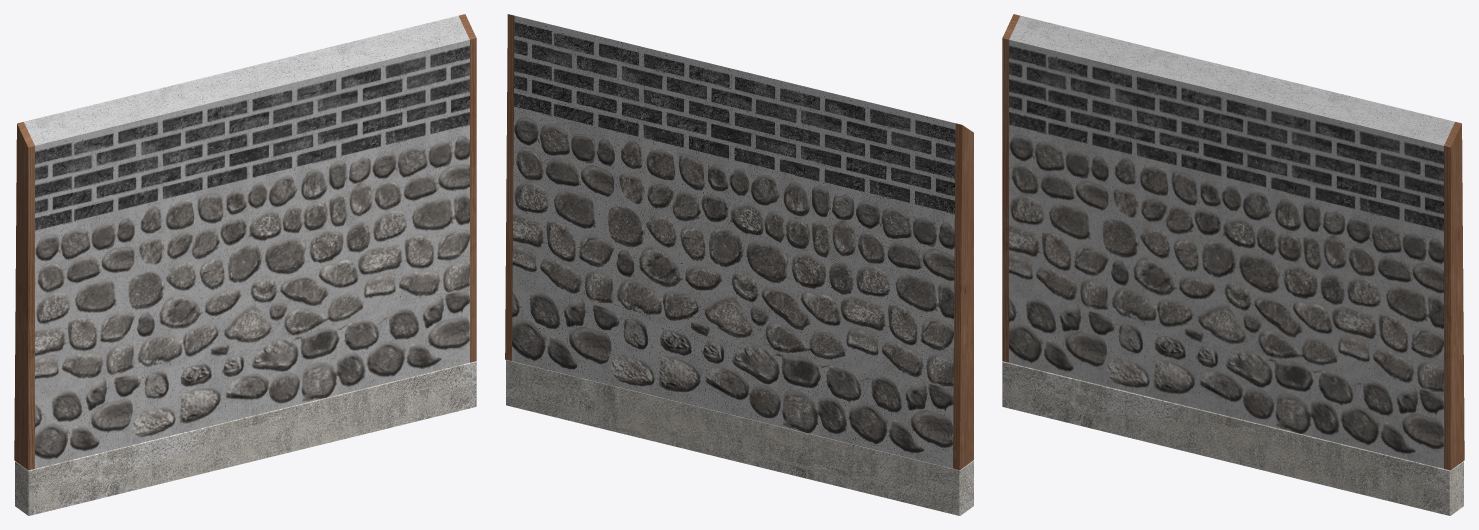
Rendered from SM_Baeryeom_Wall_C1.fbx.
3 renders of one model, left to right at view 1: azimuth 30°, elevation 25°; view 2: azimuth 150°, elevation 25°; view 3: azimuth 330°, elevation 25°, orthographic.
Visible parts, largest first — view 1: SM_Baeryeom_Wall_C1; view 2: SM_Baeryeom_Wall_C1; view 3: SM_Baeryeom_Wall_C1.
Part boxes in pixels (box(x1,y1,x2,y2)): SM_Baeryeom_Wall_C1: box(14, 14, 476, 515); SM_Baeryeom_Wall_C1: box(505, 14, 973, 515); SM_Baeryeom_Wall_C1: box(1002, 14, 1464, 515).
Size of the model in its own units: 198 by 162 by 10.94.
